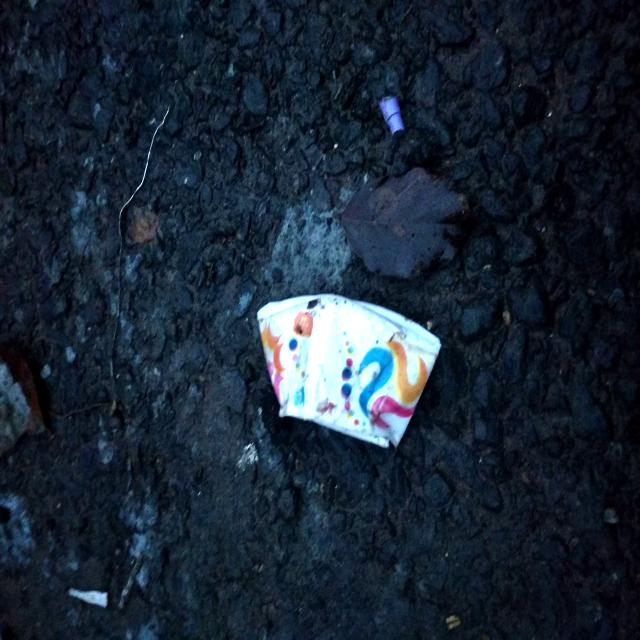Trash: (141, 338, 259, 594)
